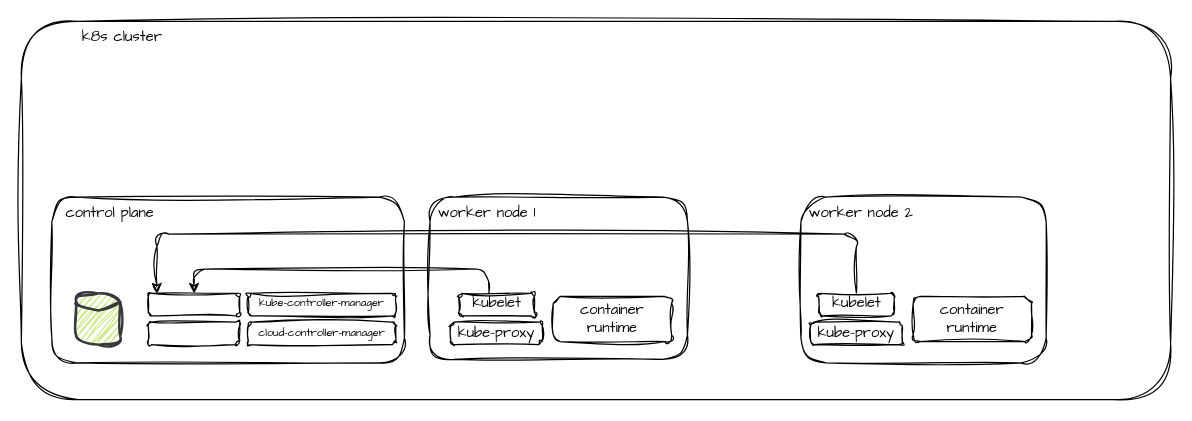
The diagram is 1192 pixels wide and 421 high, and some of its shapes have lost their labels. Here are the shapes that lost their labels. From the top down, the centre of each, then its label:
At [97,318]: "etcd".
At [193,304]: "kube-apiserver".
At [193,333]: "kube-scheduler".
